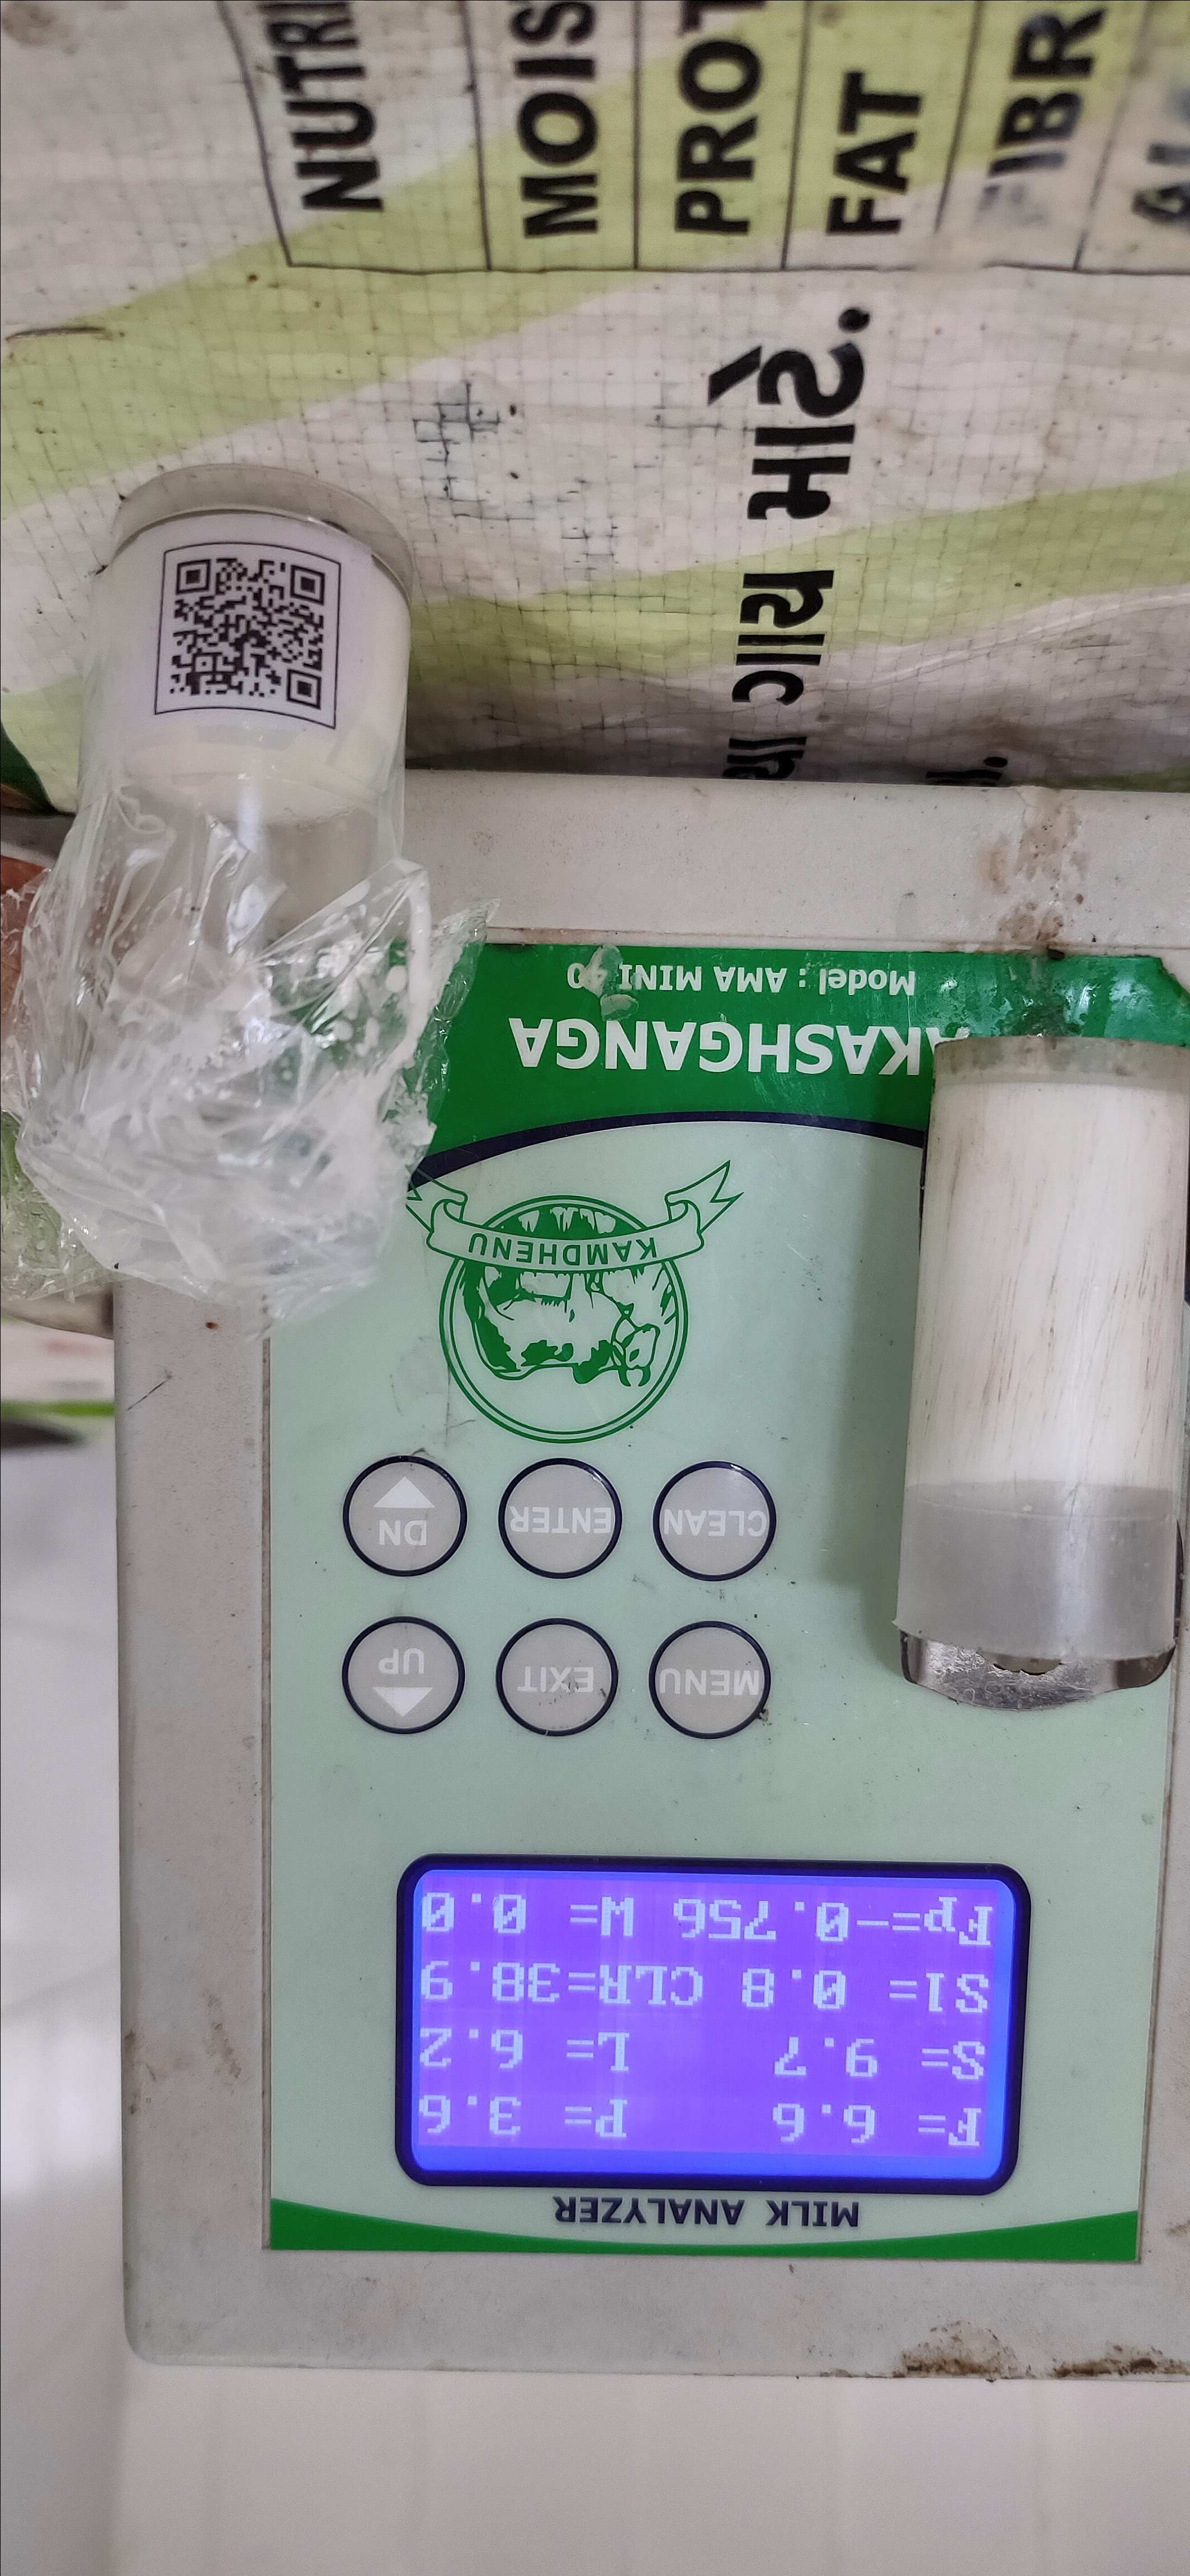lcd: (393, 1838, 1049, 2218)
qr: (153, 540, 348, 741)
